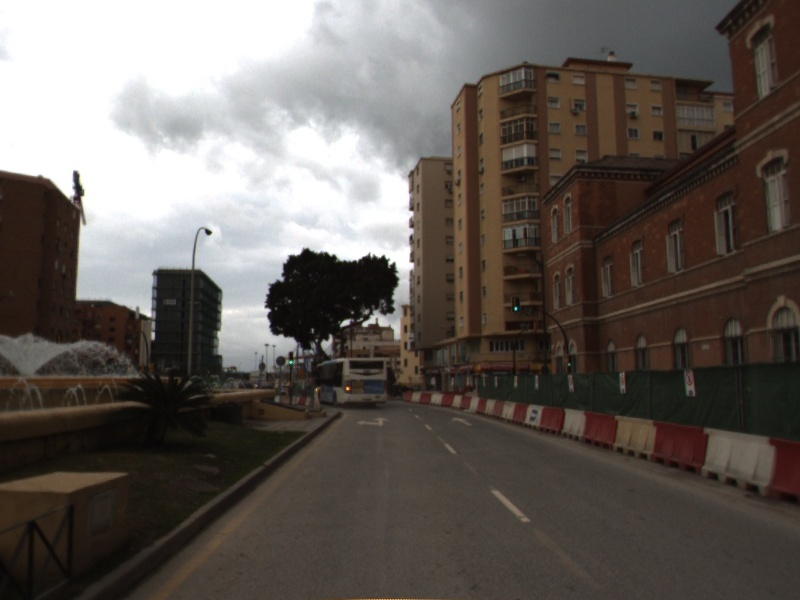STRAIGHT: (449, 414, 475, 427)
STRAIGHT_LEFT: (354, 415, 393, 428)
